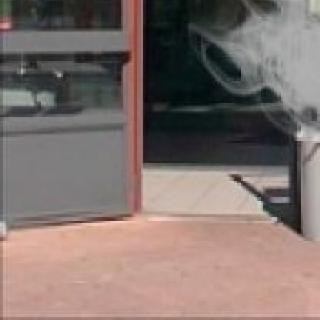smoke: (211, 0, 320, 214)
